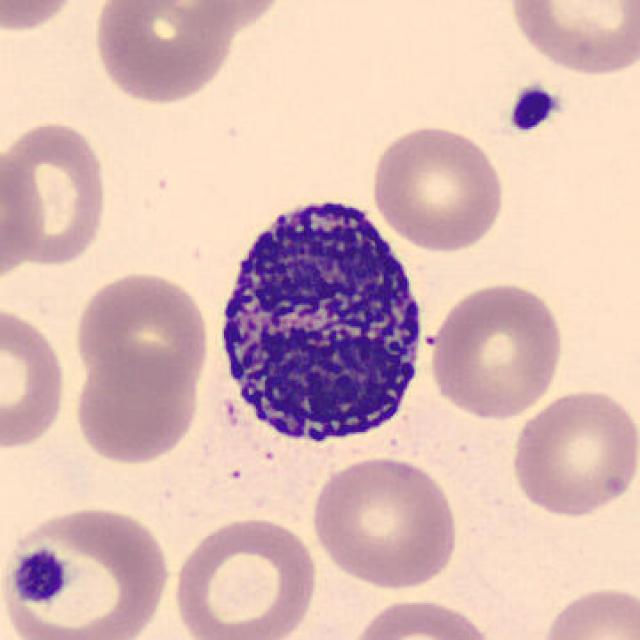Basophil: (205, 180, 438, 465)
Platelets: (7, 546, 69, 606), (505, 81, 562, 134)
RBC: (1, 500, 174, 640), (308, 452, 464, 592), (425, 277, 567, 423), (169, 513, 320, 640), (366, 122, 508, 254), (71, 266, 213, 395), (507, 384, 638, 522), (0, 116, 112, 272), (89, 0, 240, 108), (71, 346, 203, 467), (0, 302, 71, 453), (503, 0, 638, 78), (0, 138, 50, 289), (347, 594, 498, 640), (535, 582, 638, 640), (151, 0, 290, 37), (0, 0, 87, 37)
